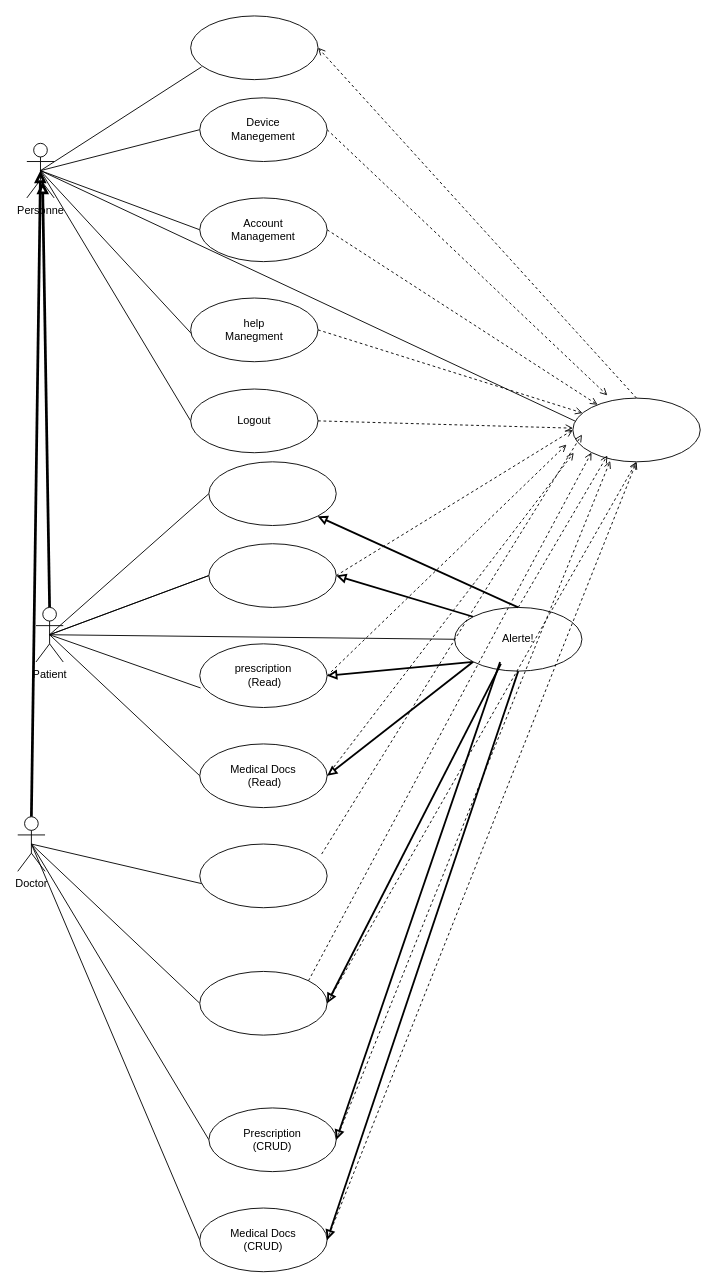
This 716x1288 diagram has some shape labels left out. Here are the shapes that lost their labels. From the top down, the box of each, then its label:
(190, 15, 318, 80): Register
(572, 397, 700, 462): Login
(208, 461, 336, 526): Appointment (book, cancel, red)
(208, 543, 336, 607): Cusultation (ask,Red, validate, feedback)
(199, 843, 327, 908): Service
(199, 971, 327, 1035): Consultation (CRUD)
